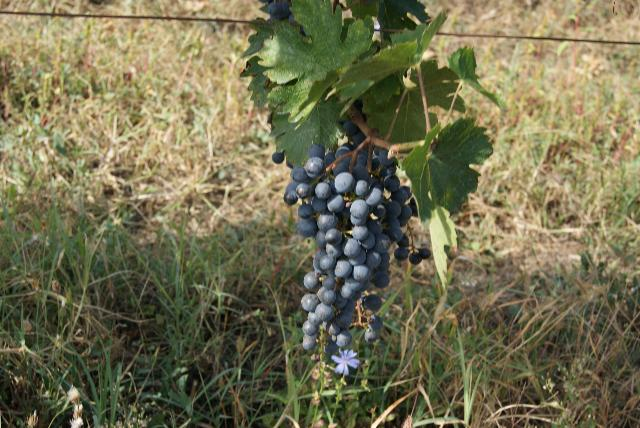grapes: (284, 145, 430, 372)
